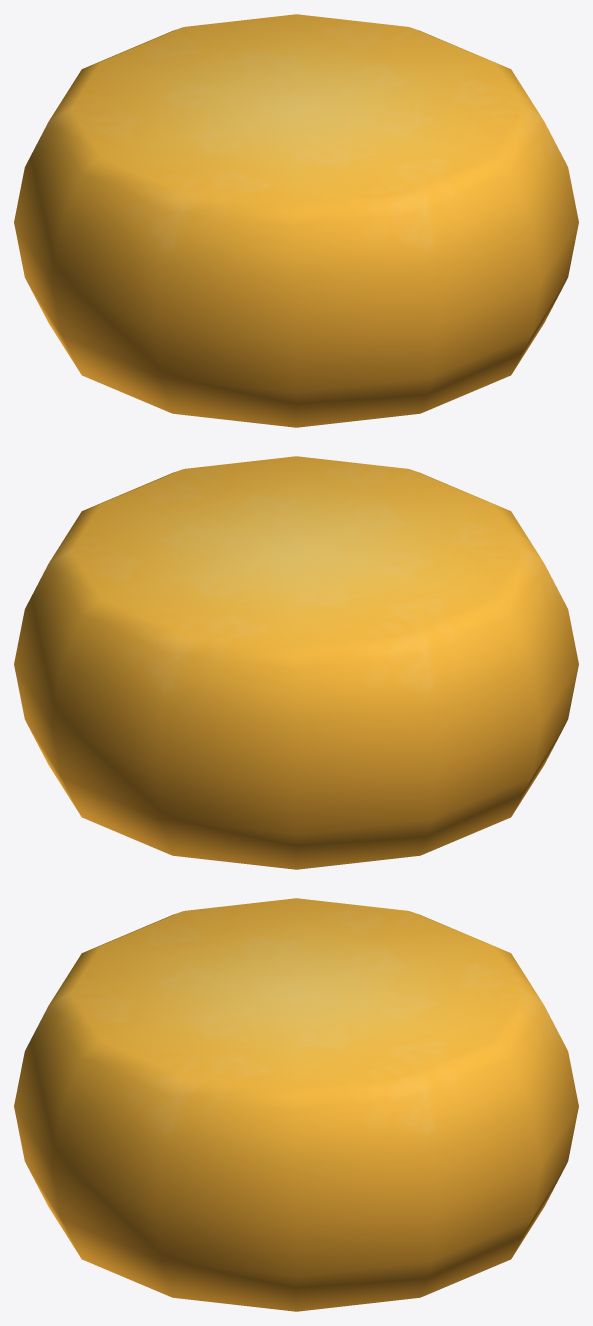
Rendered from Cheese_Wheel.fbx.
3 views of the same model, one above another, from view 1: azimuth 30°, elevation 25°; view 2: azimuth 150°, elevation 25°; view 3: azimuth 270°, elevation 25° (orthographic).
Visible parts, largest first — view 1: Cheese_Wheel; view 2: Cheese_Wheel; view 3: Cheese_Wheel.
Boxes of the visible parts, x1,y1,x2,y2 form: Cheese_Wheel: (14, 14, 578, 427); Cheese_Wheel: (14, 456, 578, 869); Cheese_Wheel: (14, 898, 578, 1311).
Size of the model in its own units: 123 by 51.3 by 123.
Materials: 1 (1 with a texture image).
